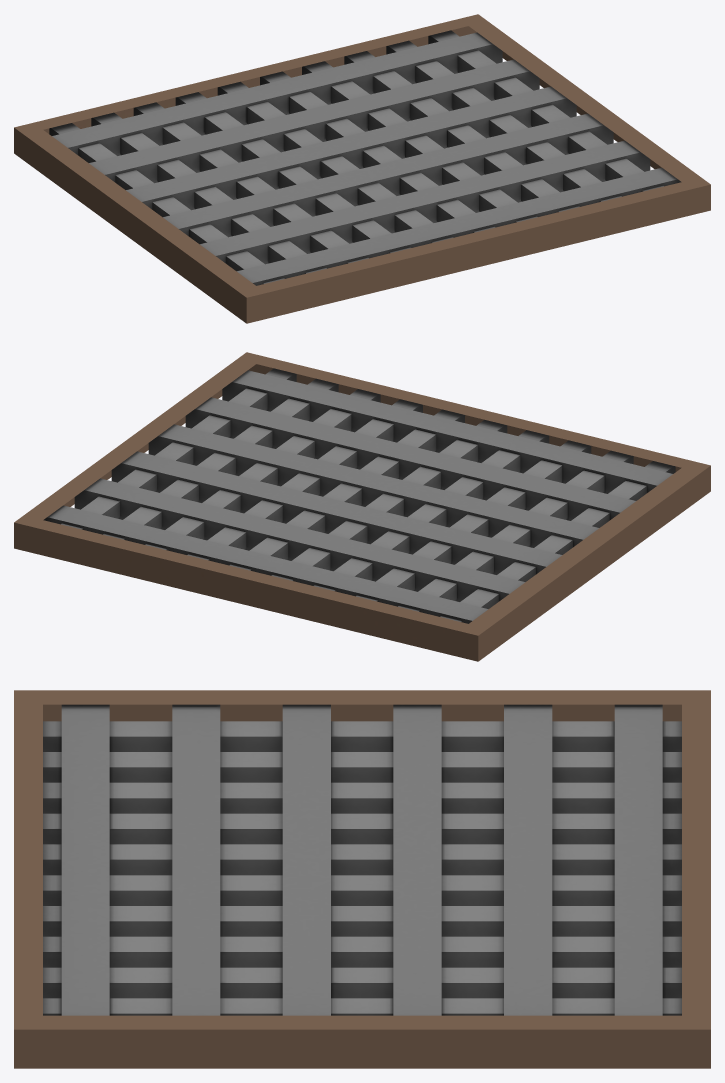
File: BigGrate.fbx
3 renders of one model, top to bottom at view 1: azimuth 30°, elevation 25°; view 2: azimuth 150°, elevation 25°; view 3: azimuth 270°, elevation 25°, orthographic. The views are drawn at different scales.
Parts seen in each view (by area): view 1: Cube.169; view 2: Cube.169; view 3: Cube.169.
Part boxes in pixels (x1,y1,x2,y2): Cube.169: (14,14,710,323); Cube.169: (14,352,710,661); Cube.169: (14,690,710,1068).
Size of the model in its own units: 2.03 by 0.1087 by 1.76.
